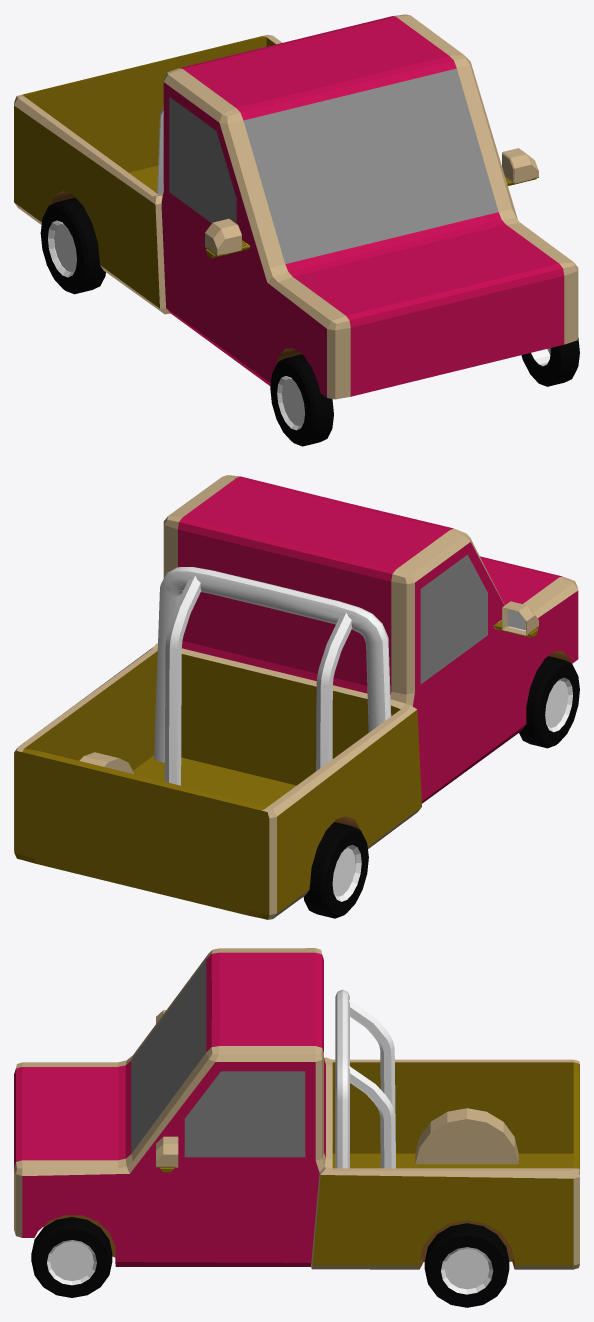
File: RaceTruck.gltf
3 renders of one model, top to bottom at view 1: azimuth 30°, elevation 25°; view 2: azimuth 150°, elevation 25°; view 3: azimuth 270°, elevation 25°, orthographic. The views are drawn at different scales.
Parts seen in each view (by area): view 1: Truck, Wheel4, Wheel2, Wheel1; view 2: Truck, Wheel4, Wheel2; view 3: Truck, Wheel3, Wheel1.
Boxes of the visible parts, x1=… form: Truck: x1=14, y1=14, x2=578, y2=399; Wheel4: x1=40, y1=197, x2=105, y2=294; Wheel2: x1=270, y1=354, x2=333, y2=446; Wheel1: x1=521, y1=337, x2=579, y2=386; Truck: x1=14, y1=475, x2=578, y2=919; Wheel4: x1=303, y1=822, x2=368, y2=918; Wheel2: x1=519, y1=656, x2=579, y2=748; Truck: x1=14, y1=948, x2=579, y2=1269; Wheel3: x1=424, y1=1223, x2=509, y2=1307; Wheel1: x1=31, y1=1217, x2=112, y2=1297.
Size of the model in its own units: 5.98 by 4.85 by 10.04.
Materials: 2 (1 with a texture image).
